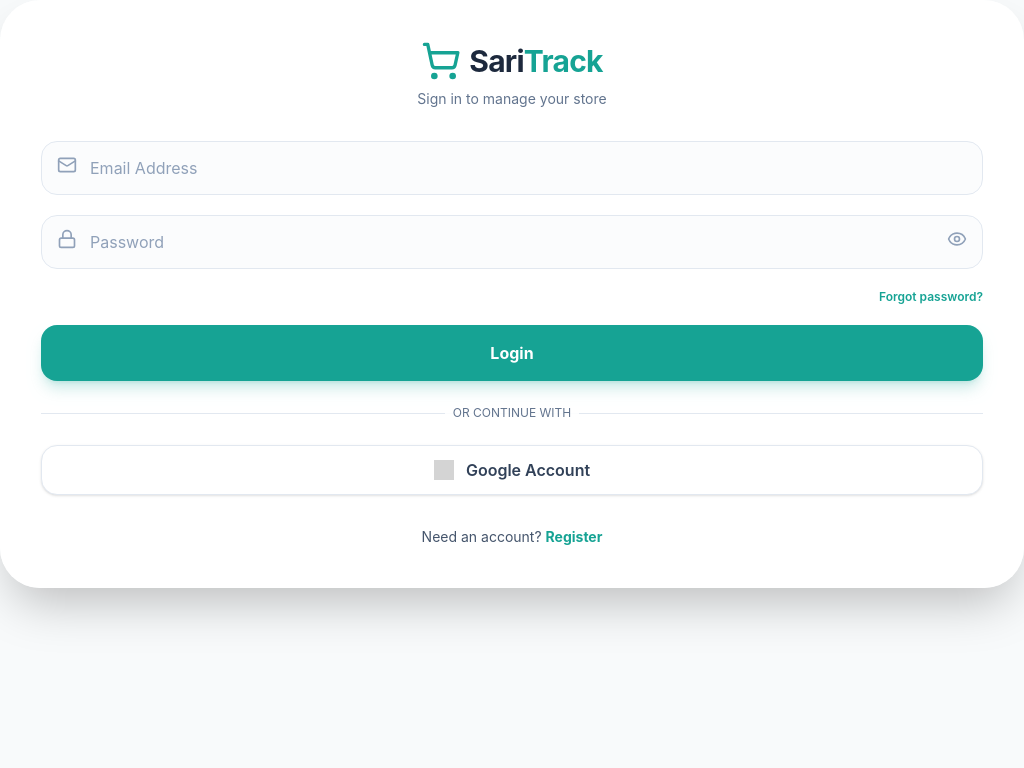
Login Component › allows switching to reset password step and submitting new password
Click the button "Forgot password?" at (931, 297), box [879, 289, 983, 305]
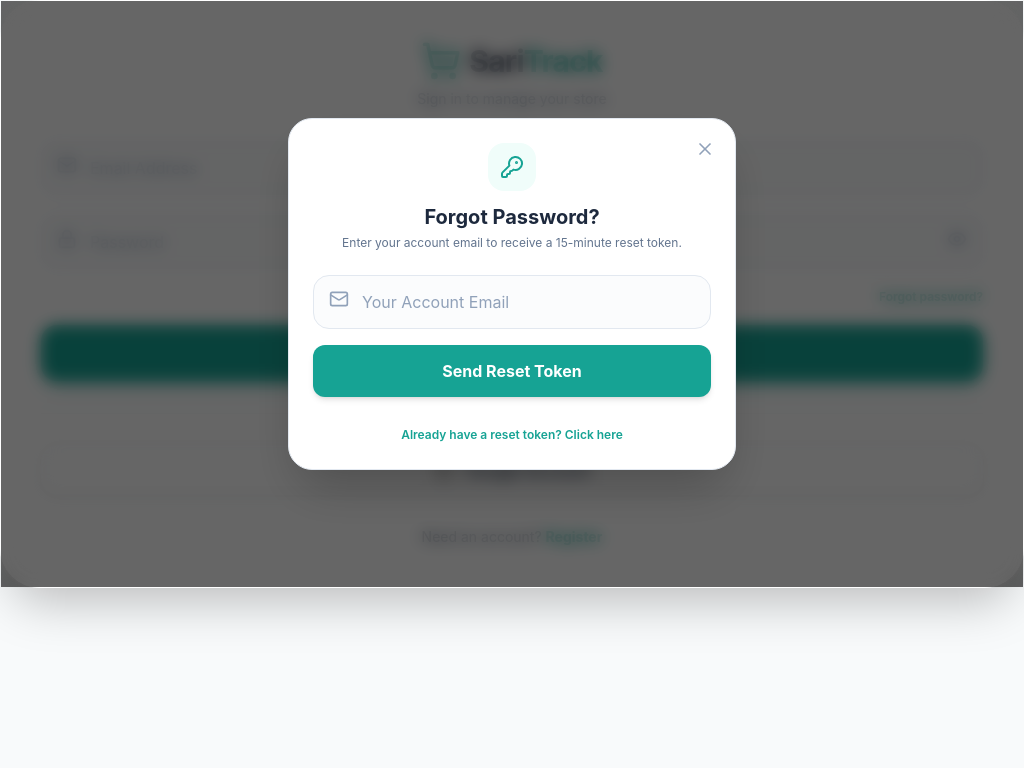
Note: Switch to step 2
Click the button "Already have a reset token? Click here" at (512, 435), box [401, 427, 623, 443]
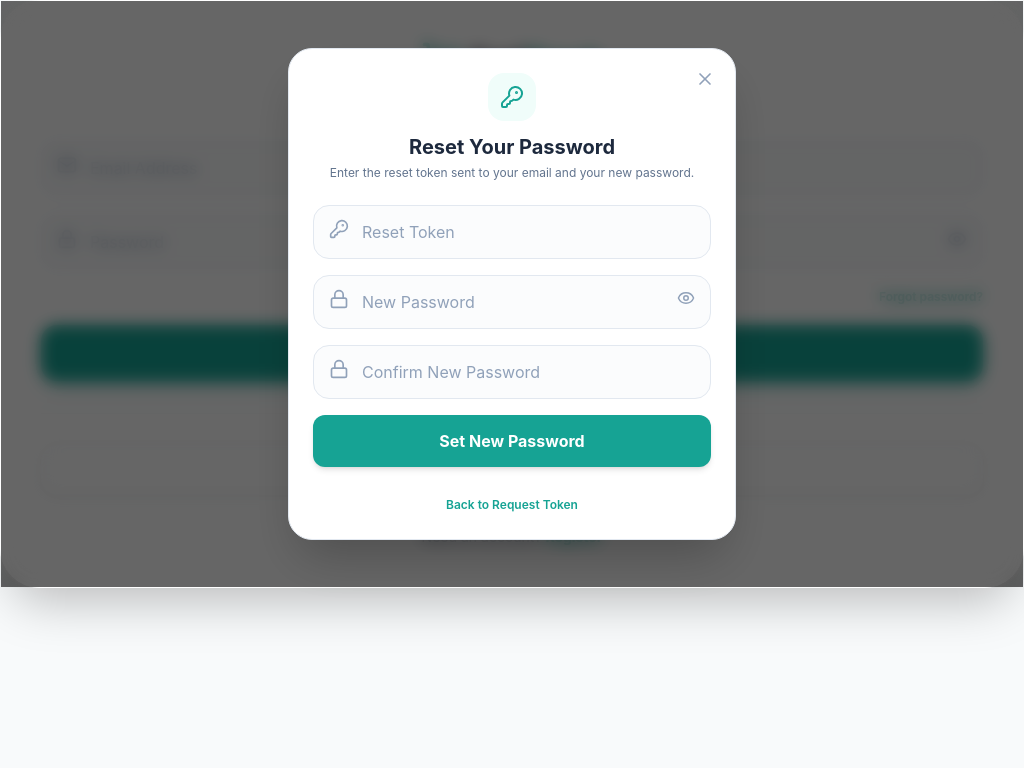
Expected: the field with placeholder "Reset Token" is shown
Expected: the password field with placeholder "New Password" is shown, [313, 275, 711, 329]
Expected: the password field with placeholder "Confirm New Password" is shown, [313, 345, 711, 399]
Type "tok-123" into the field with placeholder "Reset Token" at (512, 232), box [313, 205, 711, 259]
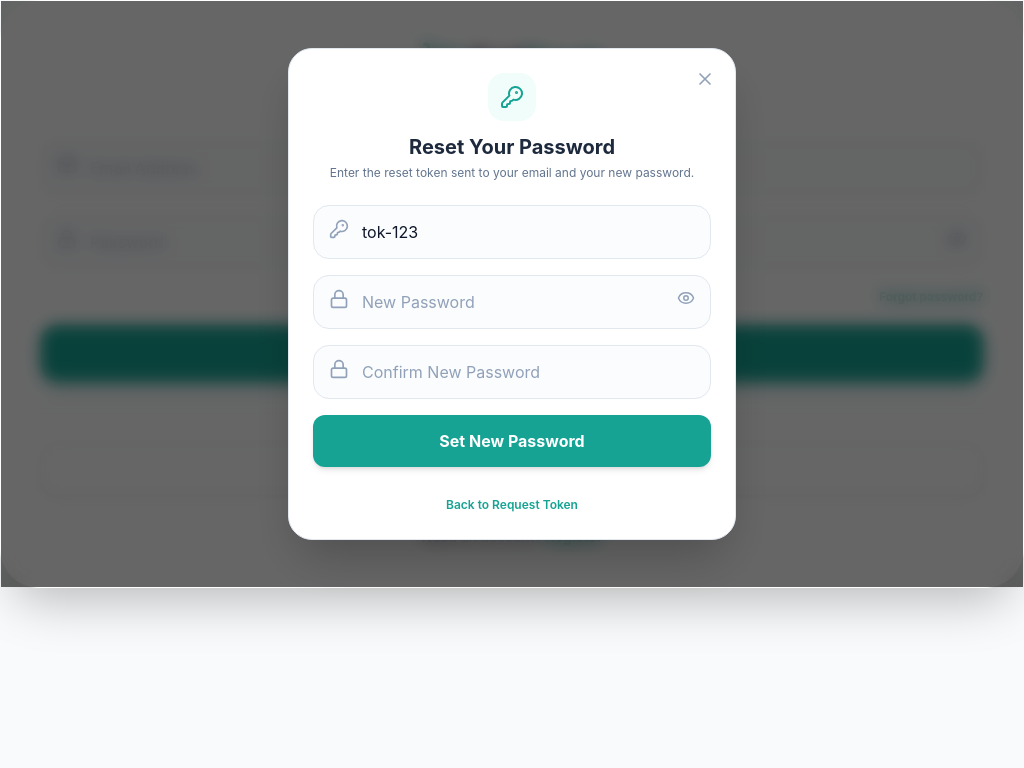
Type "newPass123" into the password field with placeholder "New Password" at (512, 302), box [313, 275, 711, 329]
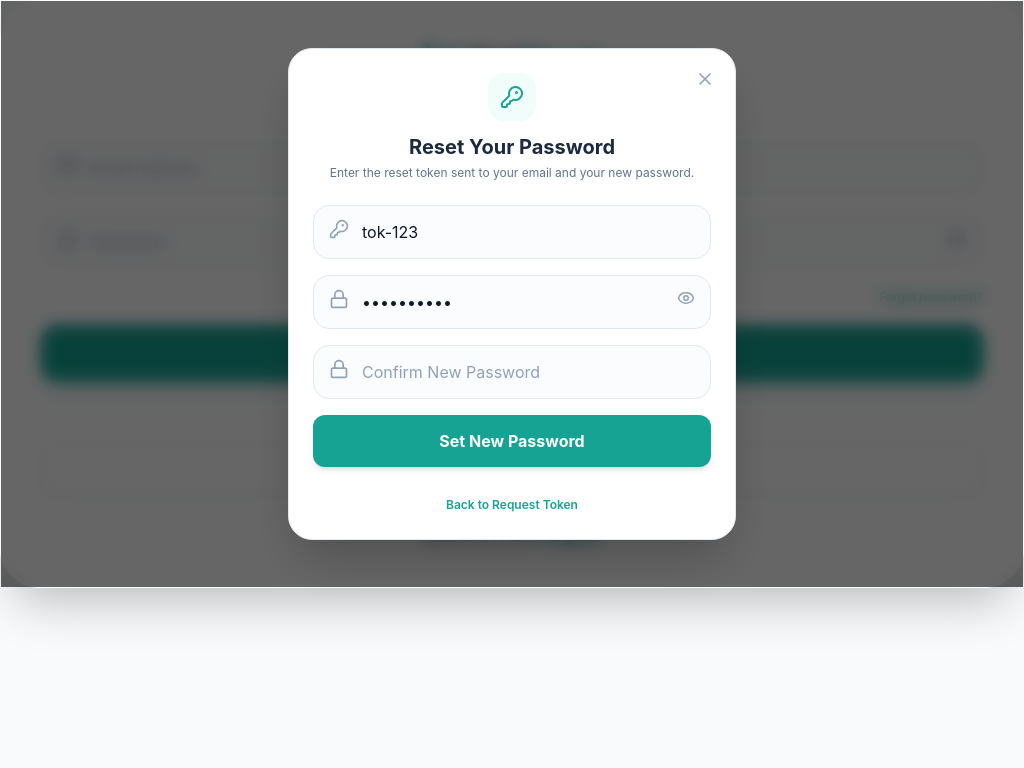
Type "newPass123" into the password field with placeholder "Confirm New Password" at (512, 372), box [313, 345, 711, 399]
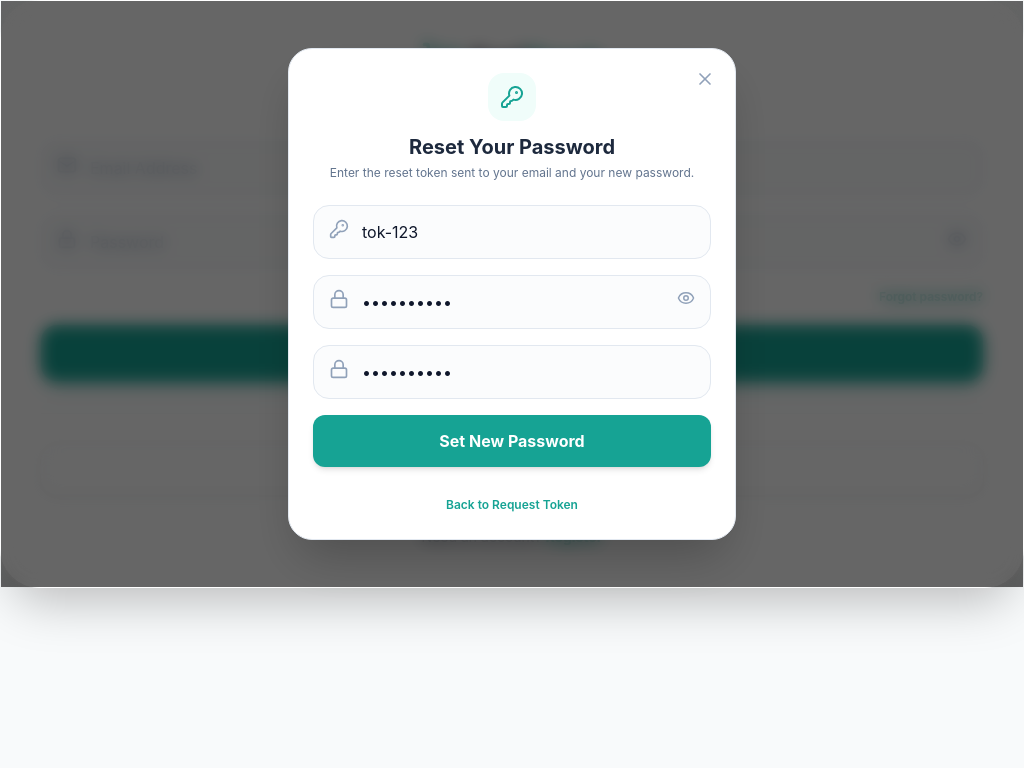
Click the button "Set New Password" at (512, 441), box [313, 415, 711, 467]
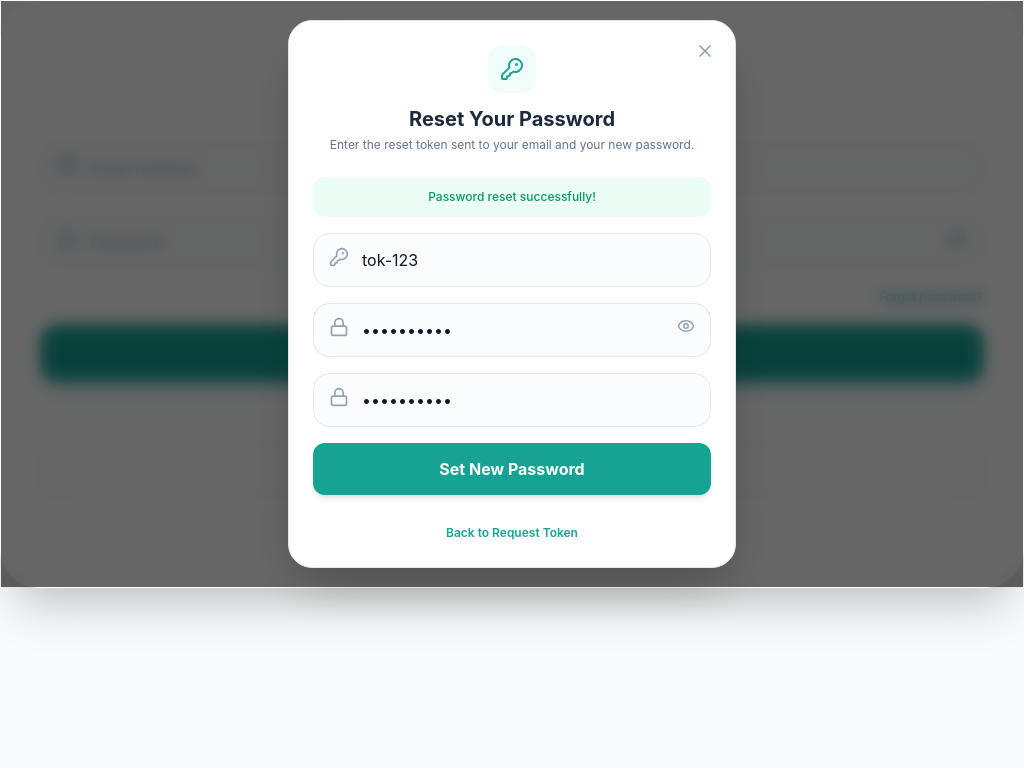
Expected: the text "Password reset successfully!" is shown, [313, 177, 711, 217]
